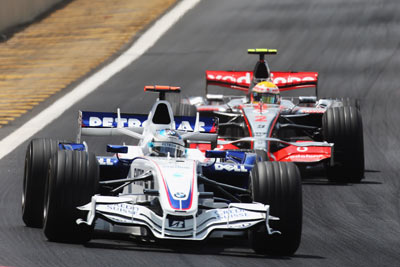race car: (20, 82, 304, 259), (173, 47, 366, 187)
